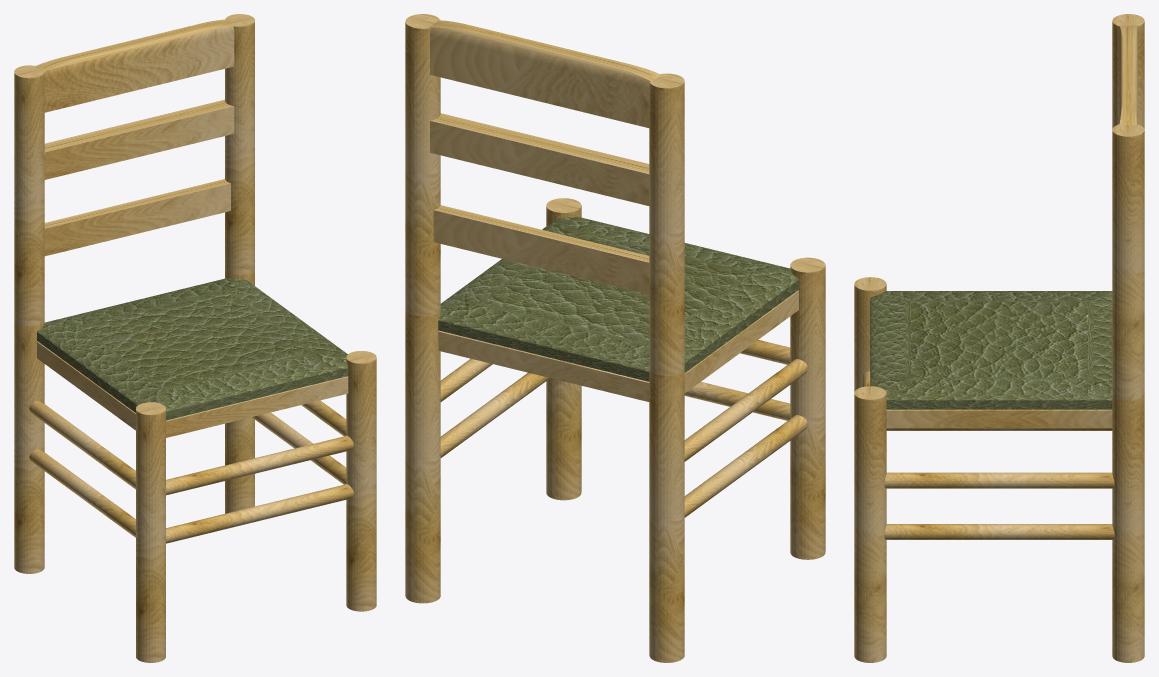
File: cadeira.fbx
3 renders of one model, left to right at view 1: azimuth 30°, elevation 25°; view 2: azimuth 150°, elevation 25°; view 3: azimuth 270°, elevation 25°, orthographic. The views are drawn at different scales.
Parts seen in each view (by area): view 1: CadeiraEstruturaMadeira, CaderiaAssentoCouro; view 2: CadeiraEstruturaMadeira, CaderiaAssentoCouro; view 3: CadeiraEstruturaMadeira, CaderiaAssentoCouro.
Part boxes in pixels (<box>): CadeiraEstruturaMadeira: <box>14,14,376,662</box>; CaderiaAssentoCouro: <box>37,278,348,420</box>; CadeiraEstruturaMadeira: <box>405,14,825,662</box>; CaderiaAssentoCouro: <box>438,216,798,381</box>; CadeiraEstruturaMadeira: <box>854,14,1144,662</box>; CaderiaAssentoCouro: <box>870,291,1112,409</box>.
Bounding box in the file's own units: 45 × 90.7 × 45.
2 materials, 2 textured.
